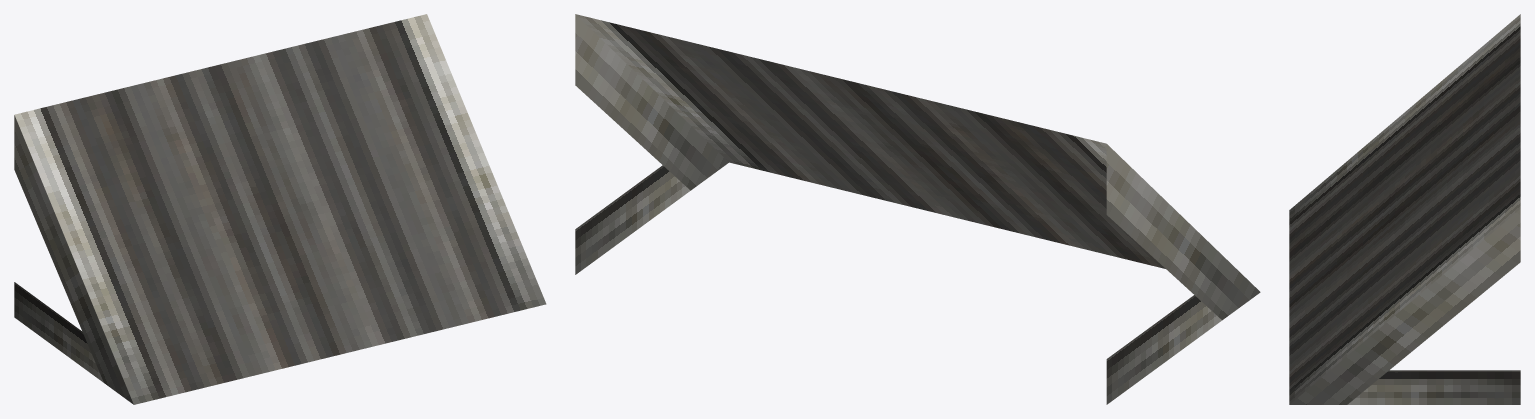
The model's file is detailAwning_small.glb.
3 renders of one model, left to right at view 1: azimuth 30°, elevation 25°; view 2: azimuth 150°, elevation 25°; view 3: azimuth 270°, elevation 25°, orthographic. The views are drawn at different scales.
Parts seen in each view (by area): view 1: detailAwning_small; view 2: detailAwning_small; view 3: detailAwning_small.
Part boxes in pixels (<box>): detailAwning_small: <box>14,14,546,404</box>; detailAwning_small: <box>575,14,1260,404</box>; detailAwning_small: <box>1289,14,1520,404</box>.
Size of the model in its own units: 0.5978 by 0.2808 by 0.3.
Materials: 1 (1 with a texture image).
